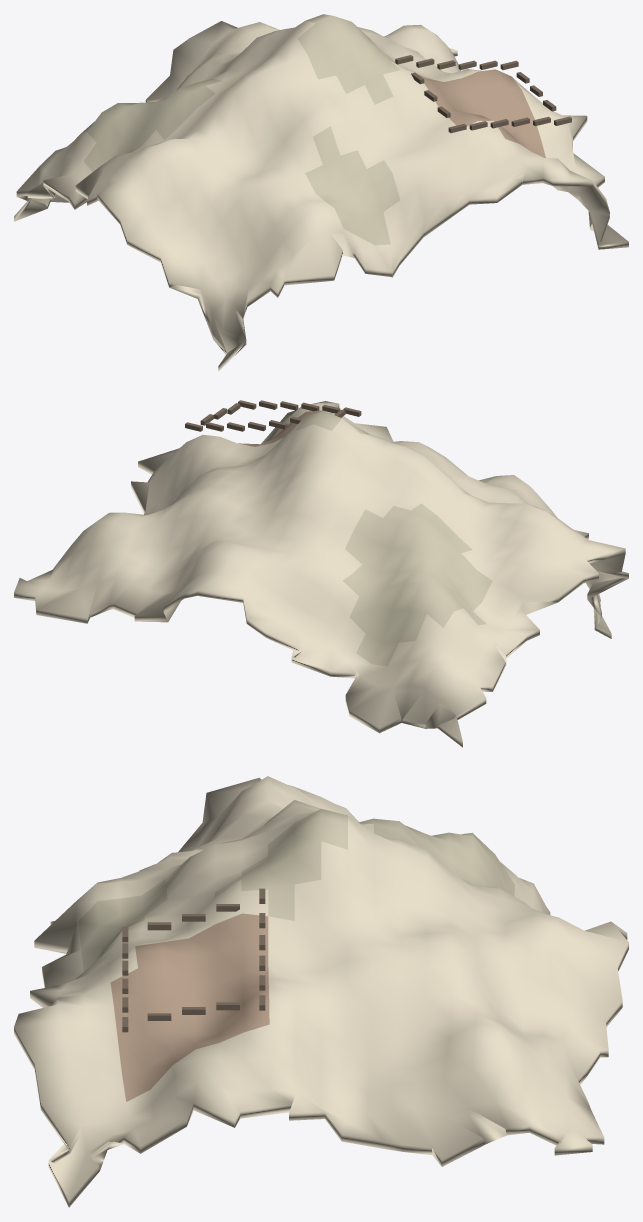
File: Trapo.glb
3 views of the same model, one above another, from view 1: azimuth 30°, elevation 25°; view 2: azimuth 150°, elevation 25°; view 3: azimuth 270°, elevation 25° (orthographic). The views are drawn at different scales.
Visible parts, largest first — view 1: Trapo, TrapoPuntadas; view 2: Trapo, TrapoPuntadas; view 3: Trapo, TrapoPuntadas.
Part boxes in pixels (x1,y1,x2,y2): Trapo: (14, 14, 628, 371); TrapoPuntadas: (395, 55, 571, 133); Trapo: (14, 401, 628, 747); TrapoPuntadas: (185, 400, 361, 431); Trapo: (14, 776, 628, 1207); TrapoPuntadas: (122, 888, 265, 1032).
Size of the model in its own units: 0.3653 by 0.1763 by 0.3139.
